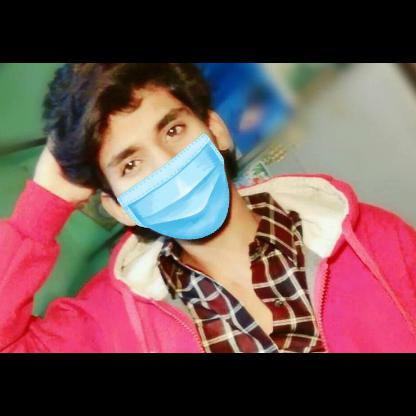Surgical Mask: (98, 100, 235, 232)
